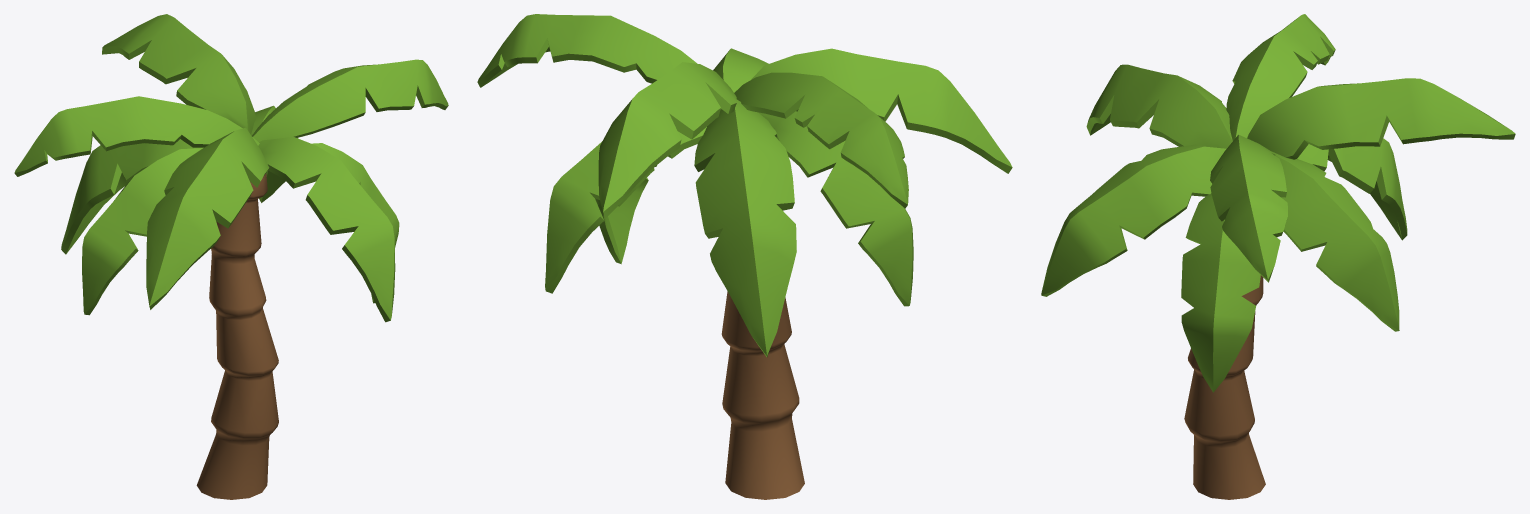
The model's file is PTree.glb.
3 views of the same model, side by side, from view 1: azimuth 30°, elevation 25°; view 2: azimuth 150°, elevation 25°; view 3: azimuth 270°, elevation 25° (orthographic). The views are drawn at different scales.
Parts seen in each view (by area): view 1: Environment_PalmTree_3; view 2: Environment_PalmTree_3; view 3: Environment_PalmTree_3.
Boxes of the visible parts, box(x1,y1,x2,y2) form: Environment_PalmTree_3: box(14, 14, 448, 499); Environment_PalmTree_3: box(477, 14, 1012, 499); Environment_PalmTree_3: box(1041, 14, 1515, 499).
Bounding box in the file's own units: 1.44 × 1.35 × 1.39.
1 material, 1 textured.
